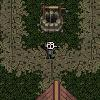Hide: (27, 0, 73, 42)
Jason: (41, 40, 59, 60)
